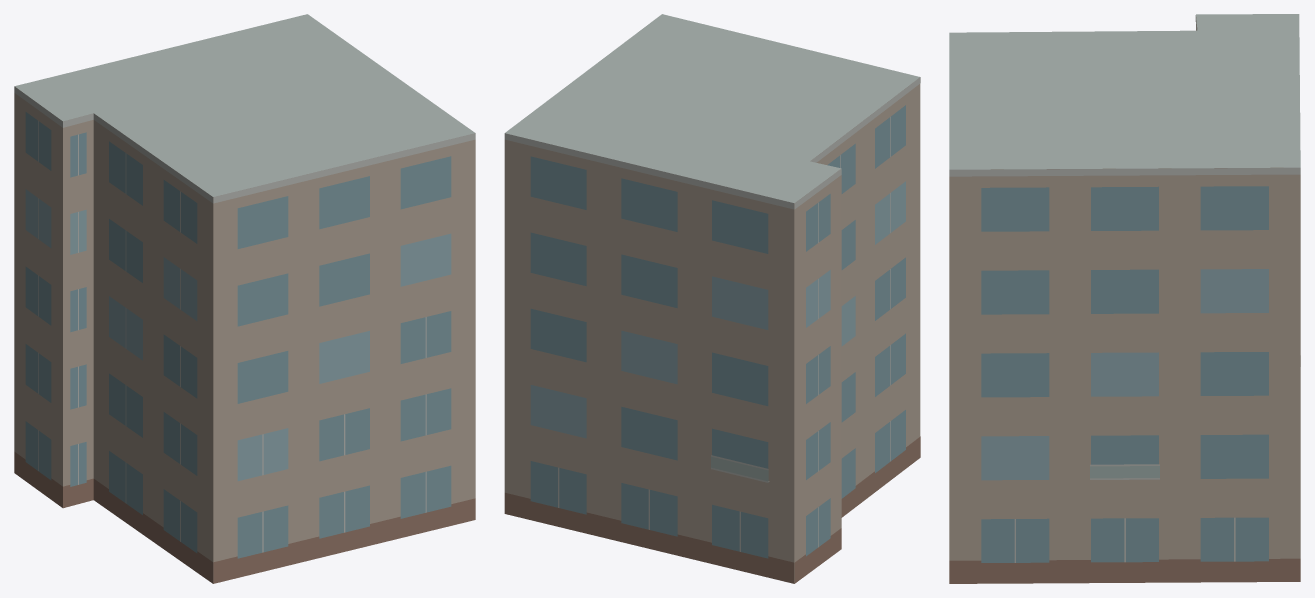
Rendered from survey-upis-32520477.glb.
The picture shows the model from 3 angles, left to right: view 1: azimuth 30°, elevation 25°; view 2: azimuth 150°, elevation 25°; view 3: azimuth 270°, elevation 25°; orthographic projection. The views are drawn at different scales.
Visible parts, largest first — view 1: survey-upis-32520477.tmp; view 2: survey-upis-32520477.tmp; view 3: survey-upis-32520477.tmp.
Boxes of the visible parts, x1,y1,x2,y2 form: survey-upis-32520477.tmp: [14, 14, 475, 583]; survey-upis-32520477.tmp: [504, 14, 920, 583]; survey-upis-32520477.tmp: [949, 14, 1300, 583].
Bounding box in the file's own units: 11.78 × 14.6 × 11.24.
